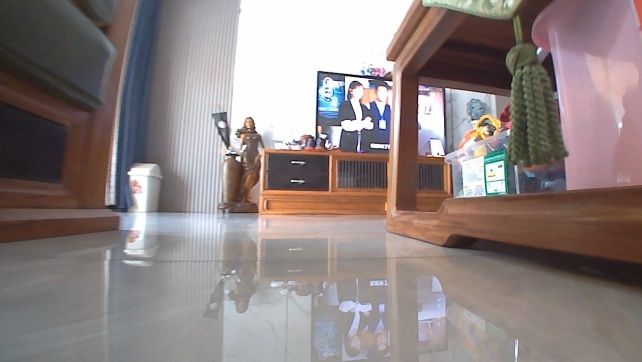TV_stand: (251, 143, 455, 219)
tea_table1: (377, 0, 641, 270)
